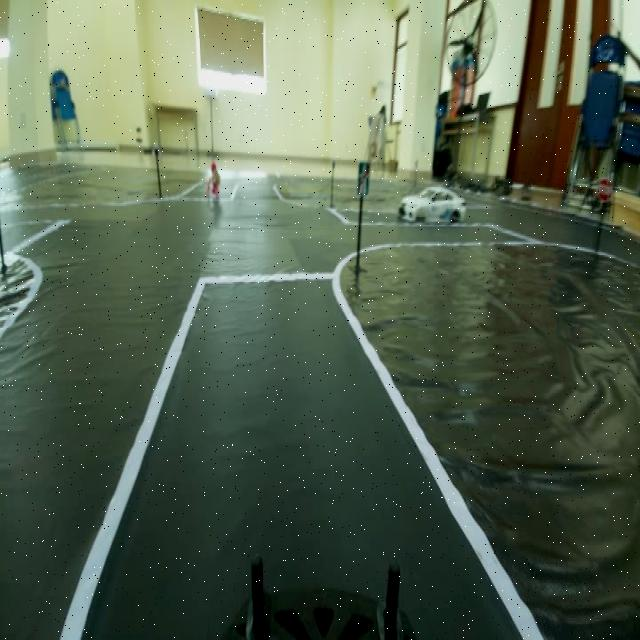highway_exit: (356, 157, 377, 198)
